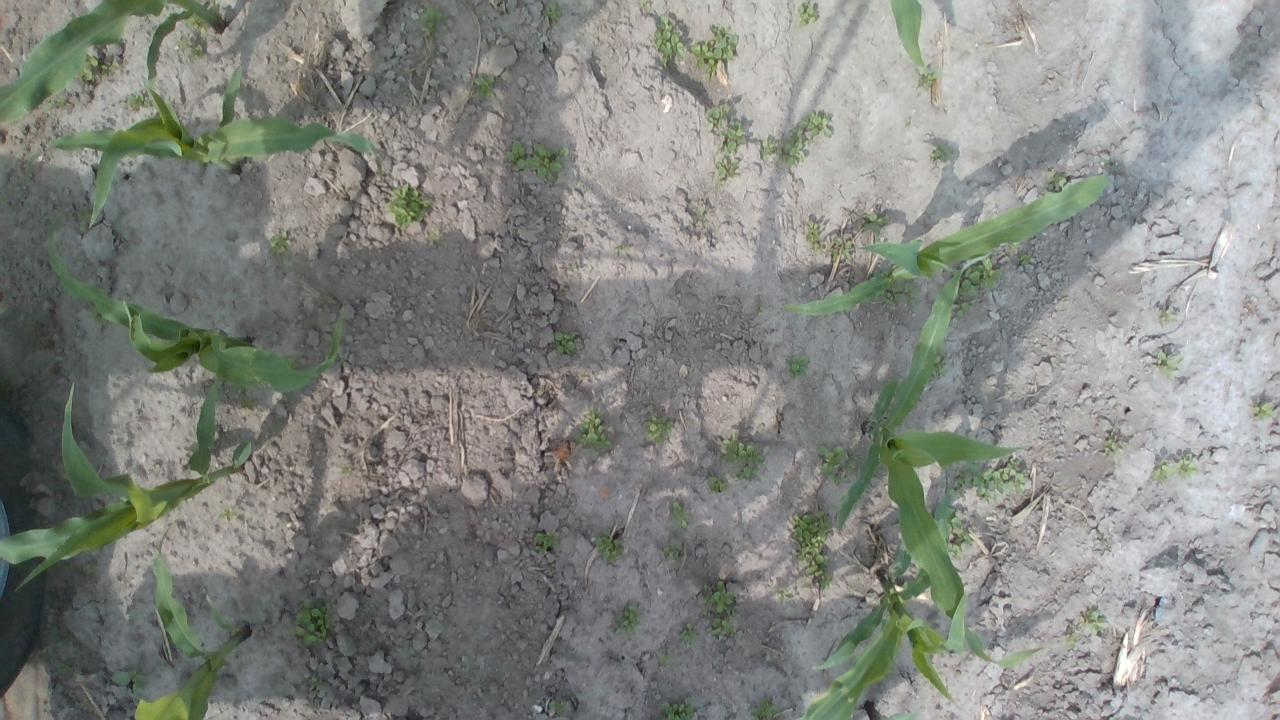Maize: (837, 259, 1040, 667), (802, 480, 1043, 720), (26, 60, 376, 222), (43, 216, 350, 396), (0, 378, 256, 583), (782, 172, 1110, 314), (0, 0, 225, 128), (134, 526, 252, 720), (888, 0, 924, 75), (861, 697, 920, 720)
Weeds: (788, 509, 832, 592), (948, 461, 1027, 505), (504, 134, 570, 185), (776, 112, 832, 168), (691, 23, 738, 80), (384, 181, 432, 230), (702, 578, 738, 640), (294, 596, 336, 648), (956, 257, 1004, 296), (650, 14, 684, 66), (818, 446, 858, 486), (576, 408, 614, 450), (719, 432, 764, 466), (946, 512, 974, 560), (76, 51, 113, 82), (416, 6, 448, 40), (594, 526, 624, 562), (881, 285, 921, 312), (612, 604, 640, 637), (660, 695, 696, 720), (720, 120, 746, 154), (111, 668, 145, 694), (642, 415, 672, 444), (1156, 350, 1183, 382), (750, 696, 784, 720), (175, 35, 204, 61), (861, 211, 888, 238), (786, 354, 814, 380), (703, 102, 732, 127), (1248, 399, 1278, 423), (472, 72, 497, 98), (534, 529, 560, 554), (1080, 607, 1104, 634), (716, 153, 740, 179), (553, 331, 577, 357), (804, 222, 824, 253), (232, 384, 255, 410), (928, 353, 951, 378), (269, 231, 292, 256), (1152, 459, 1176, 482), (1176, 456, 1198, 481), (542, 0, 562, 27), (798, 0, 818, 26), (670, 501, 688, 529), (704, 474, 729, 494), (928, 142, 952, 162), (830, 238, 854, 258), (1048, 168, 1070, 188), (662, 543, 684, 562), (918, 65, 936, 88), (1060, 630, 1082, 648), (760, 139, 778, 161), (186, 15, 208, 33), (125, 92, 147, 110), (679, 622, 698, 642), (951, 302, 972, 320), (736, 466, 760, 481), (1158, 305, 1177, 323), (777, 586, 795, 603), (1104, 439, 1120, 458), (80, 205, 90, 231), (550, 700, 568, 714), (54, 662, 74, 674), (657, 652, 674, 666), (308, 674, 322, 690), (218, 510, 240, 520), (82, 562, 96, 576), (691, 206, 706, 219), (1018, 254, 1032, 266), (429, 231, 442, 243), (614, 244, 631, 253), (1007, 243, 1020, 252), (869, 272, 888, 278), (340, 468, 352, 477), (1103, 159, 1113, 169), (640, 0, 650, 8)
